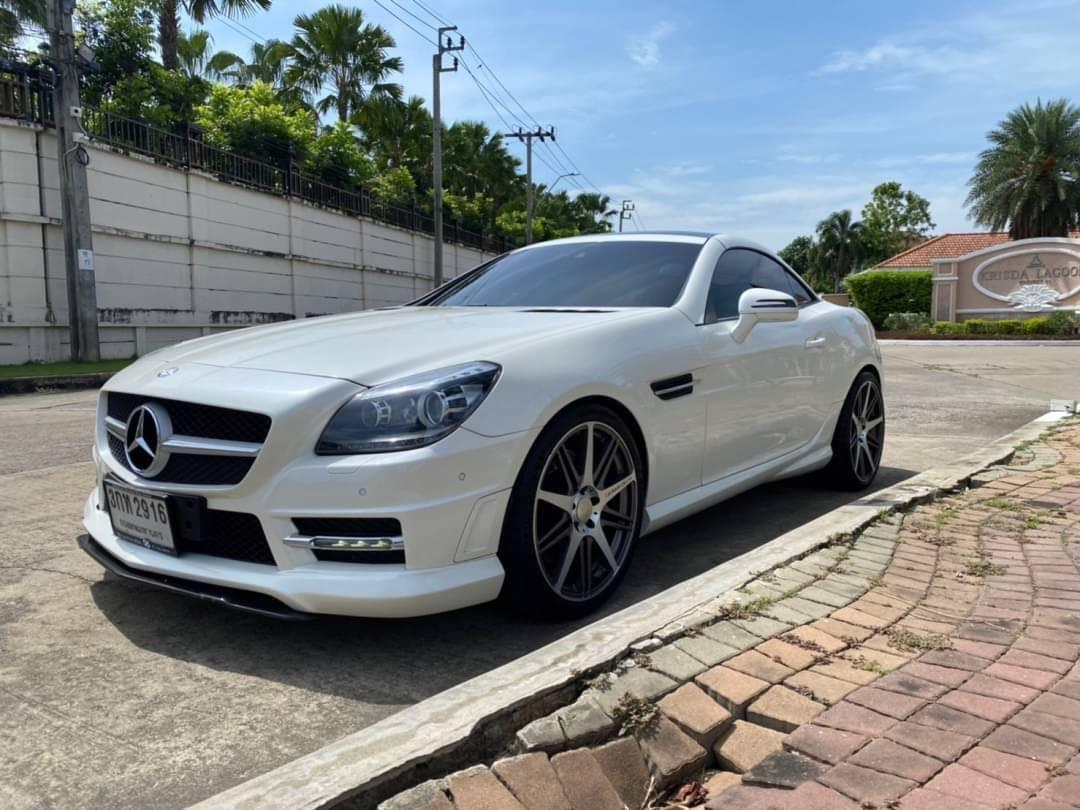license-plate: (100, 473, 185, 559)
